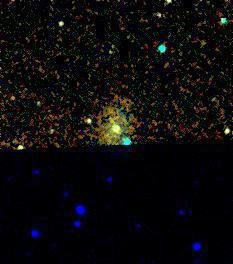star: (0, 80, 29, 110)
